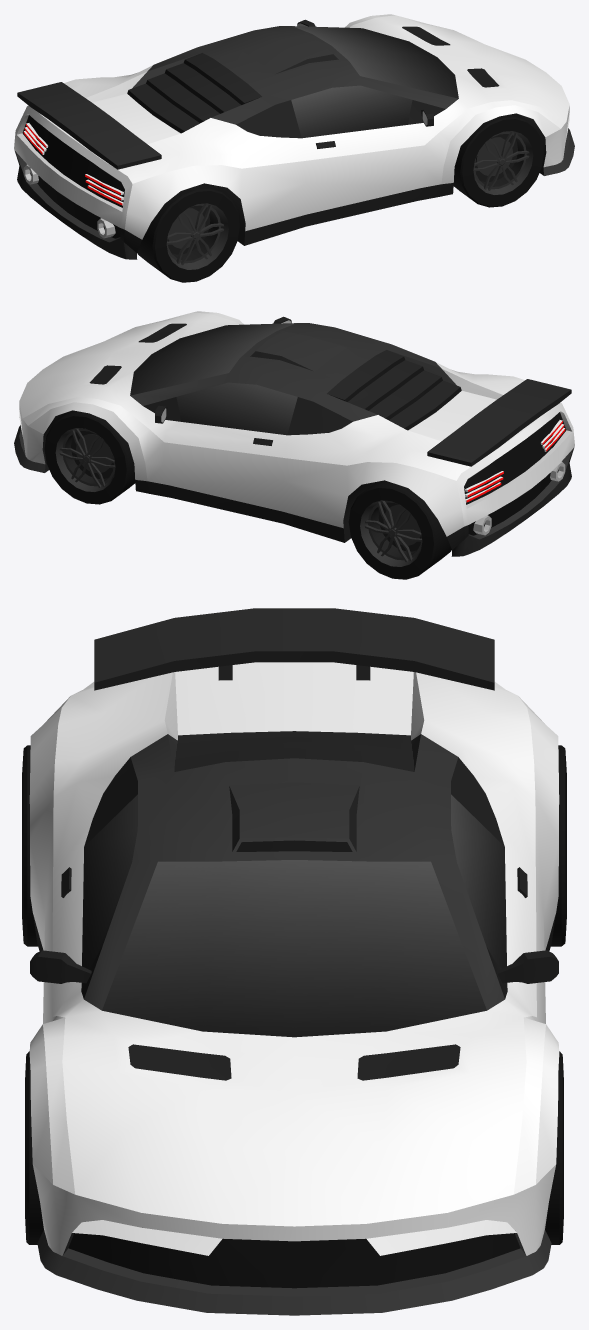
File: Car_220.glb
The picture shows the model from 3 angles, top to bottom: view 1: azimuth 30°, elevation 25°; view 2: azimuth 150°, elevation 25°; view 3: azimuth 270°, elevation 25°; orthographic projection. The views are drawn at different scales.
Visible parts, largest first — view 1: Car_220, wheel_3_Car_220_Wheel_2R, wheel_1_Car_220_Wheel_1R; view 2: Car_220, wheel_2_Car_220_Wheel_2L, wheel_0_Car_220_Wheel_1L; view 3: Car_220, wheel_1_Car_220_Wheel_1R, wheel_0_Car_220_Wheel_1L, wheel_2_Car_220_Wheel_2L, wheel_3_Car_220_Wheel_2R.
Boxes of the visible parts, bbox=[...] form: Car_220: bbox=[14, 14, 574, 259]; wheel_3_Car_220_Wheel_2R: bbox=[137, 183, 240, 282]; wheel_1_Car_220_Wheel_1R: bbox=[453, 113, 544, 207]; Car_220: bbox=[14, 311, 574, 556]; wheel_2_Car_220_Wheel_2L: bbox=[348, 480, 451, 579]; wheel_0_Car_220_Wheel_1L: bbox=[44, 410, 135, 504]; Car_220: bbox=[29, 608, 559, 1315]; wheel_1_Car_220_Wheel_1R: bbox=[25, 1051, 43, 1244]; wheel_0_Car_220_Wheel_1L: bbox=[545, 1051, 563, 1244]; wheel_2_Car_220_Wheel_2L: bbox=[551, 745, 566, 946]; wheel_3_Car_220_Wheel_2R: bbox=[22, 745, 37, 946].
Bounding box in the file's own units: 4.19 × 1.18 × 2.01.
Materials: 2 (2 with a texture image).
